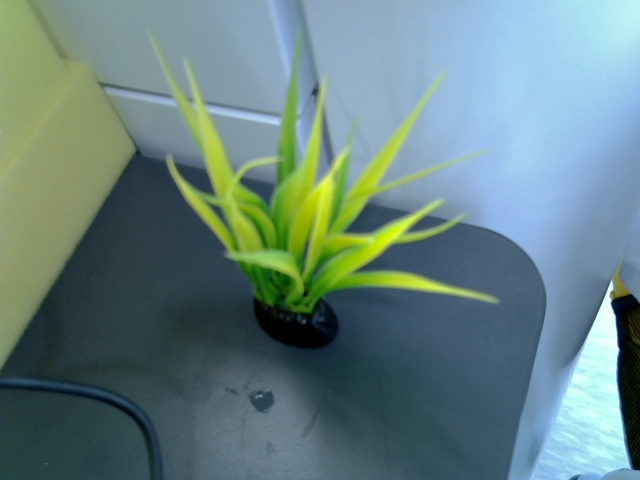해바라기새싹: (140, 31, 504, 347)
